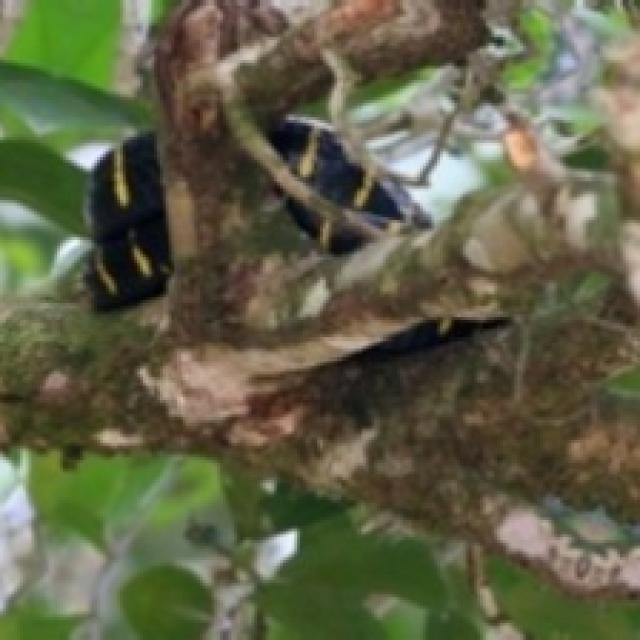mangrove cat snake: (269, 117, 429, 251), (83, 134, 169, 306)
